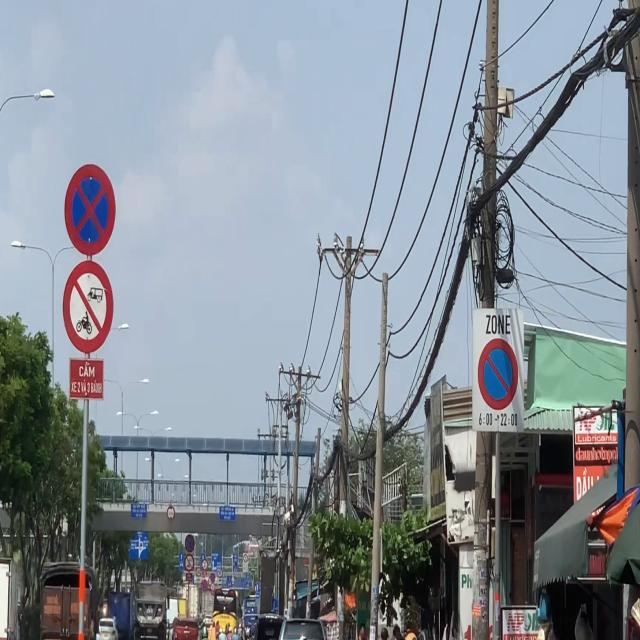Cam con lai: (61, 262, 114, 356)
Cam do: (478, 336, 519, 410)
Cam dung va do: (63, 160, 118, 258)
